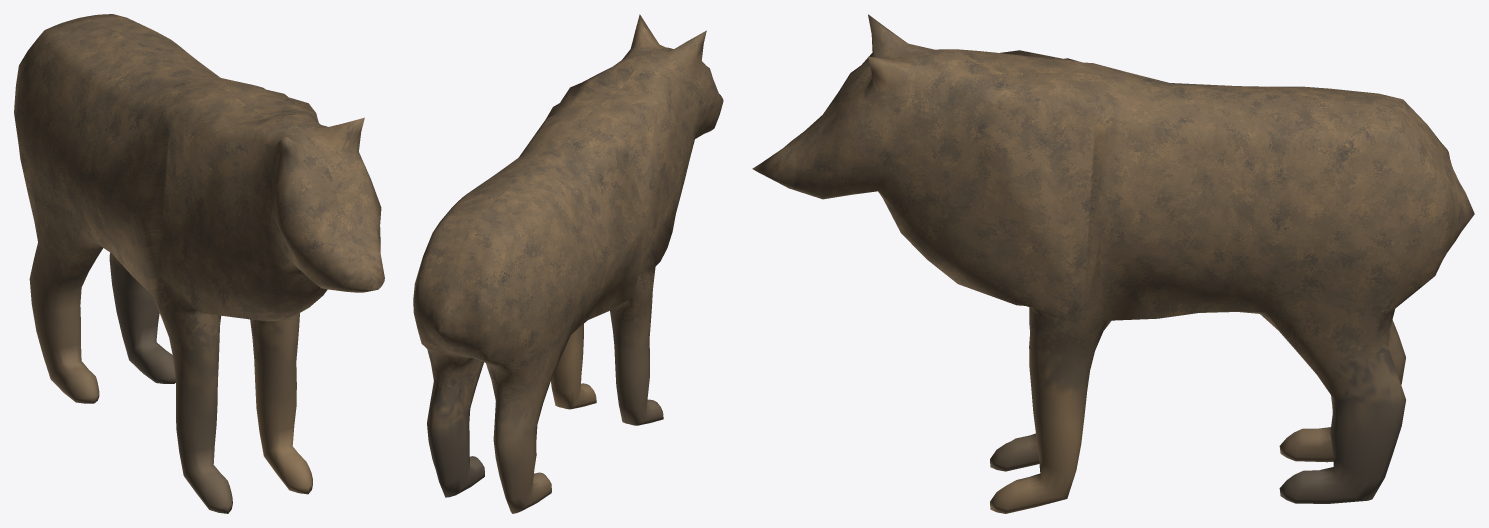
The model's file is piesblend_000037.obj.
3 renders of one model, left to right at view 1: azimuth 30°, elevation 25°; view 2: azimuth 150°, elevation 25°; view 3: azimuth 270°, elevation 25°, orthographic. The views are drawn at different scales.
Parts seen in each view (by area): view 1: Cube; view 2: Cube; view 3: Cube.
Boxes of the visible parts, x1,y1,x2,y2 form: Cube: [14, 14, 384, 513]; Cube: [413, 14, 723, 513]; Cube: [752, 14, 1474, 513].
Bounding box in the file's own units: 2.55 × 6.25 × 9.03.
1 material, 1 textured.
